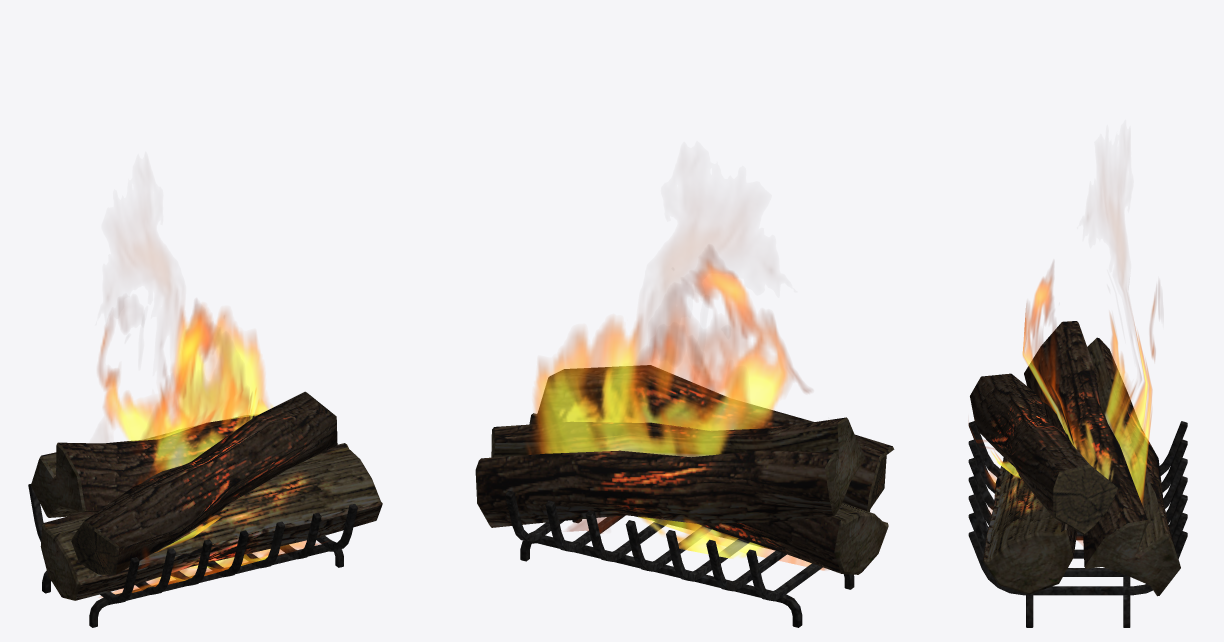
File: fireplace_fire.glb
The picture shows the model from 3 angles, left to right: view 1: azimuth 30°, elevation 25°; view 2: azimuth 150°, elevation 25°; view 3: azimuth 270°, elevation 25°; orthographic projection. The views are drawn at different scales.
Parts seen in each view (by area): view 1: Logs, Feu01, Log Grate; view 2: Logs, Feu01, Log Grate; view 3: Logs, Feu01, Log Grate.
Boxes of the visible parts, x1,y1,x2,y2 form: Logs: [31, 391, 382, 600]; Feu01: [98, 237, 327, 597]; Log Grate: [28, 484, 357, 627]; Logs: [475, 365, 894, 574]; Feu01: [527, 227, 826, 570]; Log Grate: [505, 490, 854, 627]; Logs: [970, 321, 1180, 596]; Feu01: [969, 202, 1159, 544]; Log Grate: [968, 421, 1187, 627].
Bounding box in the file's own units: 0.7356 × 1.06 × 0.4362.
Materials: 3 (3 with a texture image).
